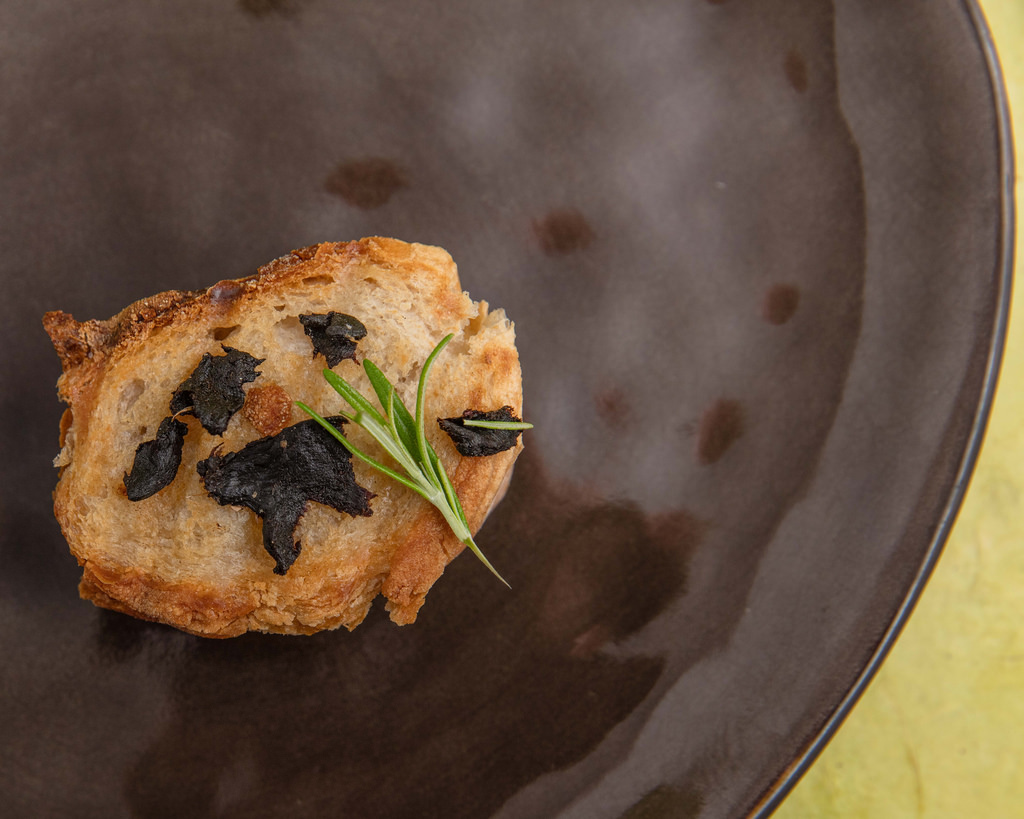slice of bread: (51, 285, 533, 640)
